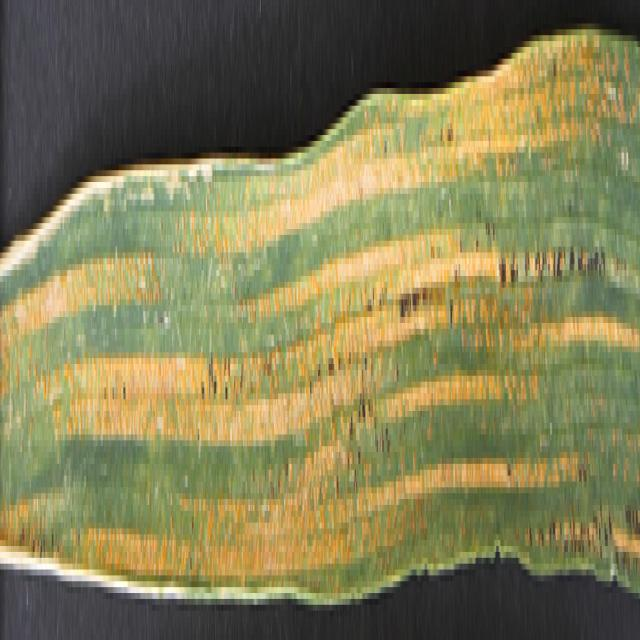leaf rust: (1, 30, 638, 588)
